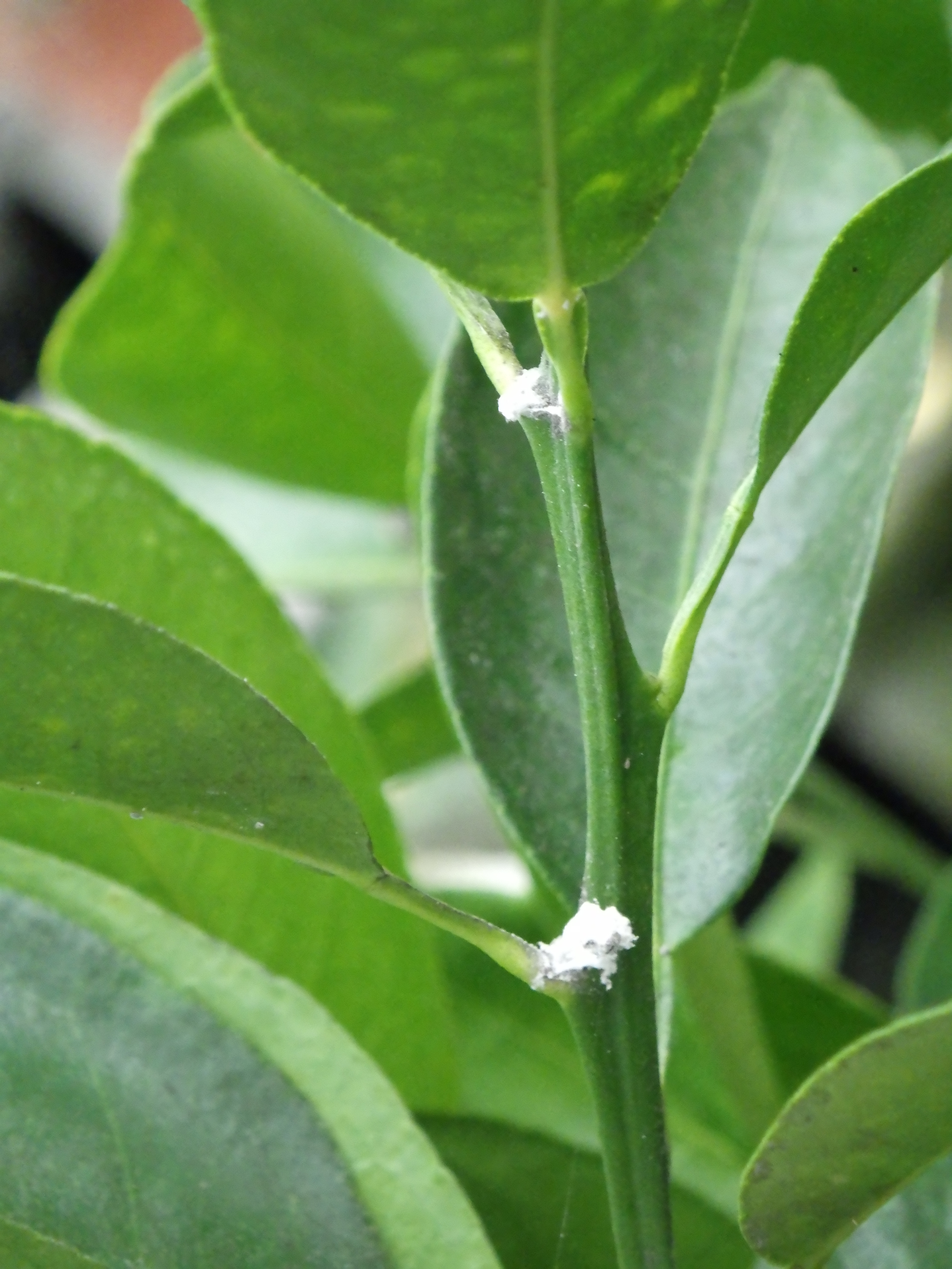Scale_Insect: (532, 901, 637, 990), (499, 367, 564, 425)
